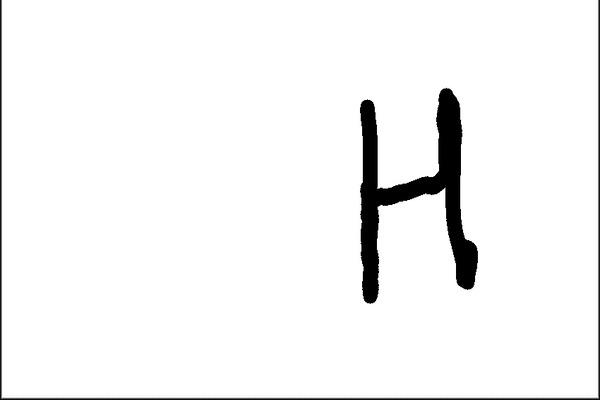H: (346, 84, 487, 305)
